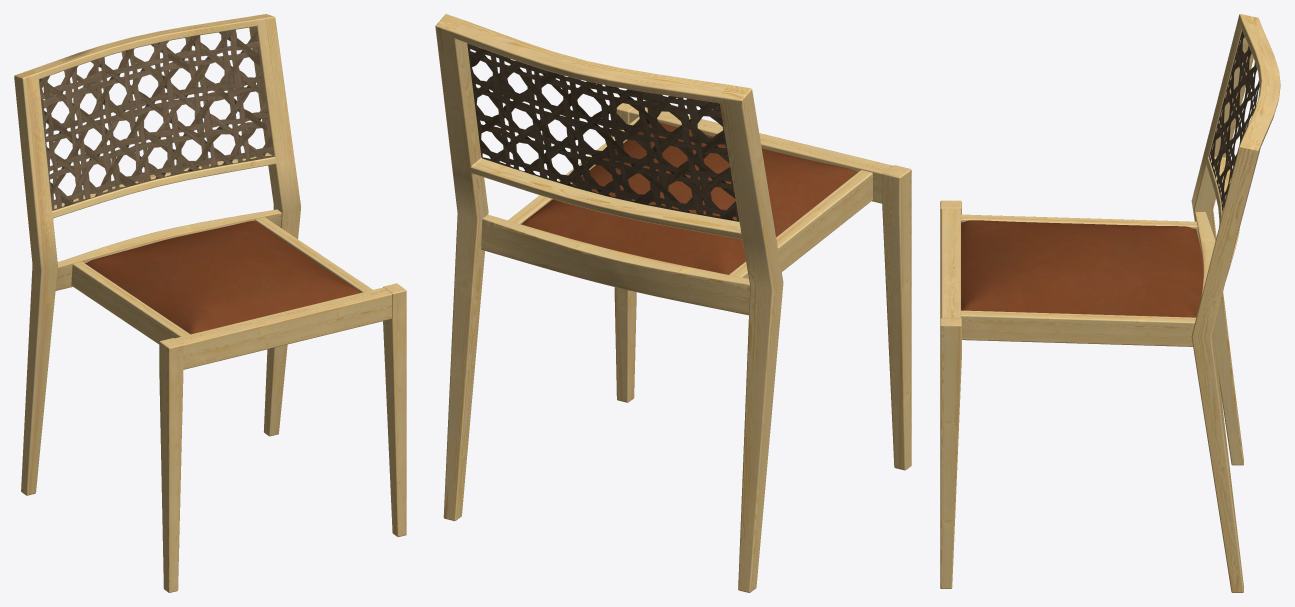
3 renders of one model, left to right at view 1: azimuth 30°, elevation 25°; view 2: azimuth 150°, elevation 25°; view 3: azimuth 270°, elevation 25°, orthographic. The views are drawn at different scales.
Visible parts, largest first — view 1: Cube.001, Cube.006, Plane; view 2: Cube.001, Cube.006, Plane; view 3: Cube.001, Plane, Cube.006.
Part boxes in pixels (x1,y1,x2,y2): Cube.001: (14,14,406,592); Cube.006: (39,26,274,210); Plane: (85,221,360,334); Cube.001: (435,14,911,592); Cube.006: (467,43,739,221); Plane: (521,122,857,274); Cube.001: (940,14,1280,592); Plane: (961,220,1203,317); Cube.006: (1209,30,1259,213).
Bounding box in the file's own units: 0.4934 × 0.7516 × 0.5189.
Materials: 3 (3 with a texture image).
